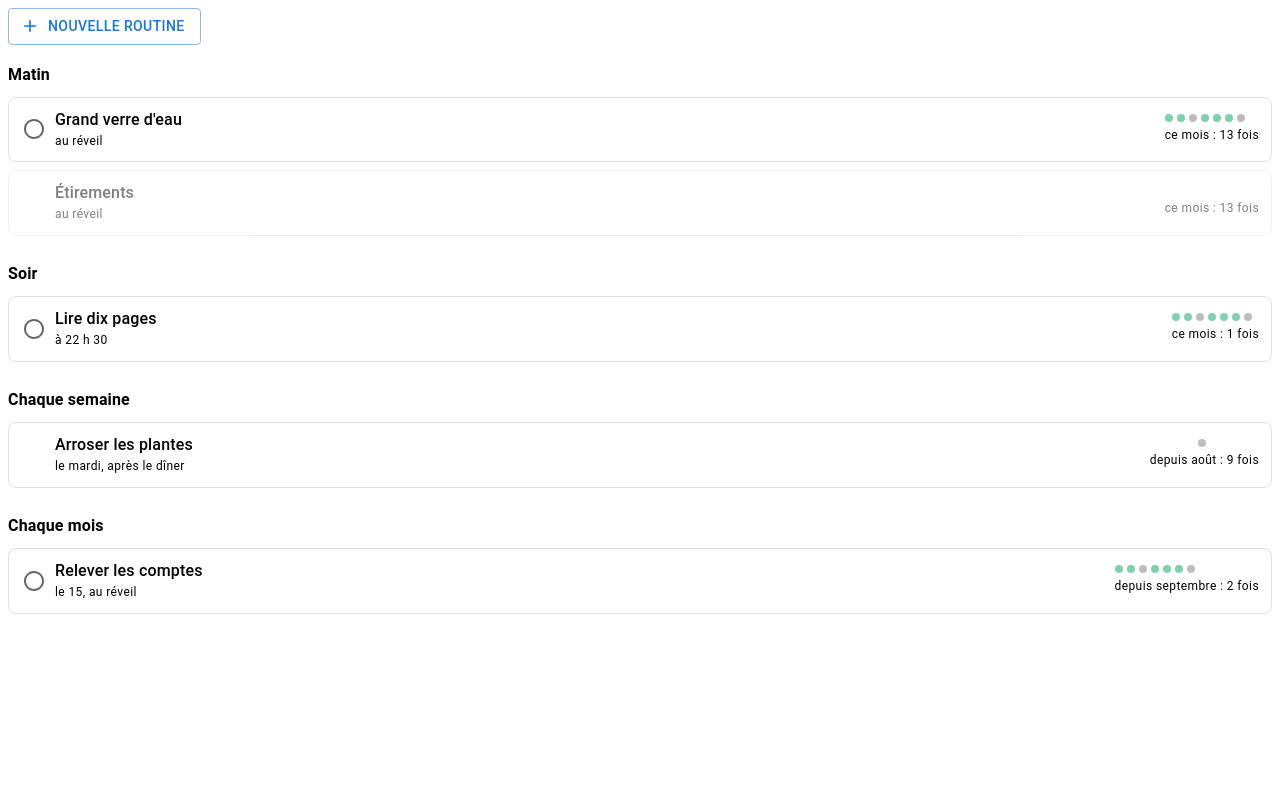
Scenario: TaskRoutines (MAG-511) › « Supprimer » asks first, then deletes
Check: the text "Lire dix pages" is shown, box x1=55 y1=307 x2=157 y2=331
Click the button "Lire dix pages à 22 h 30 ce mois : 1 fois".
click(106, 319)  # box x1=55 y1=297 x2=1271 y2=361
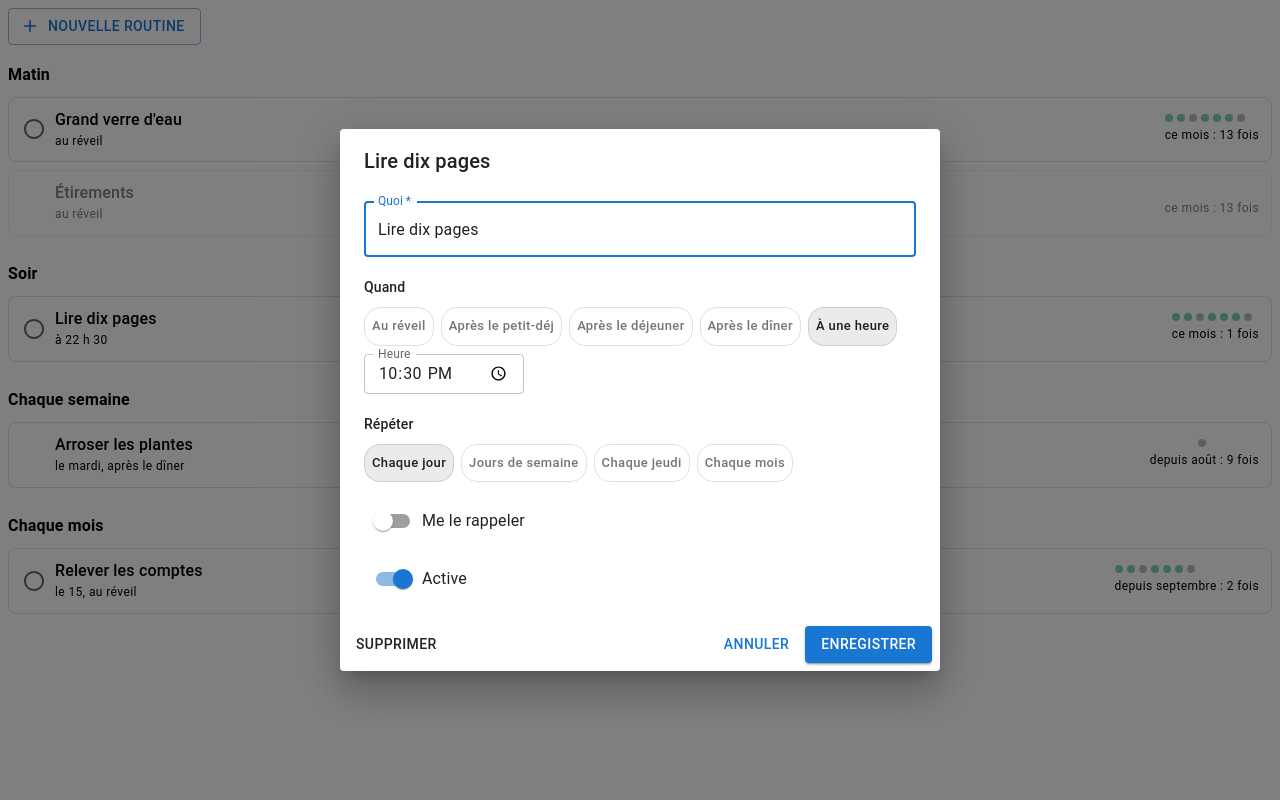
Click the button "Supprimer".
click(396, 645)  # box x1=348 y1=626 x2=445 y2=663
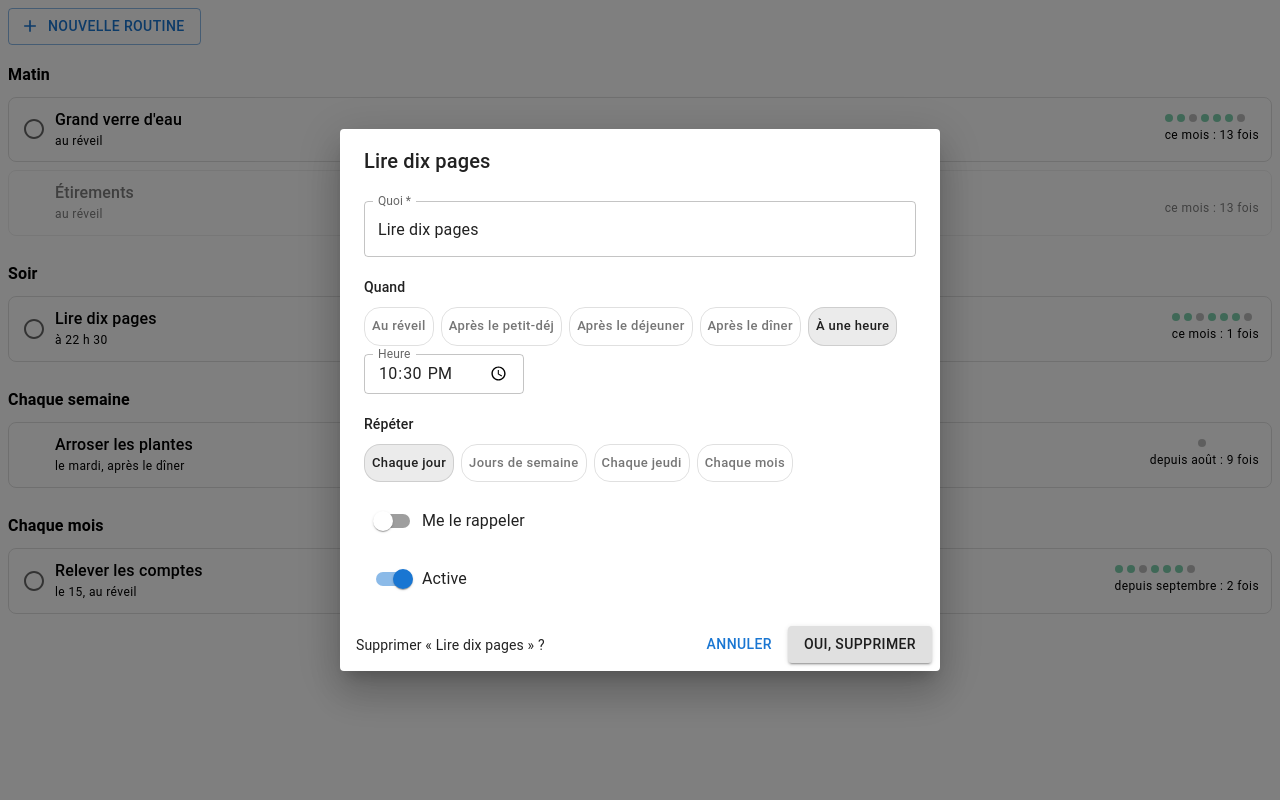
Check: the text "Supprimer « Lire dix pages » ?" is shown, box x1=356 y1=637 x2=545 y2=653
Click the button "Oui, supprimer".
click(860, 645)  # box x1=788 y1=626 x2=932 y2=663
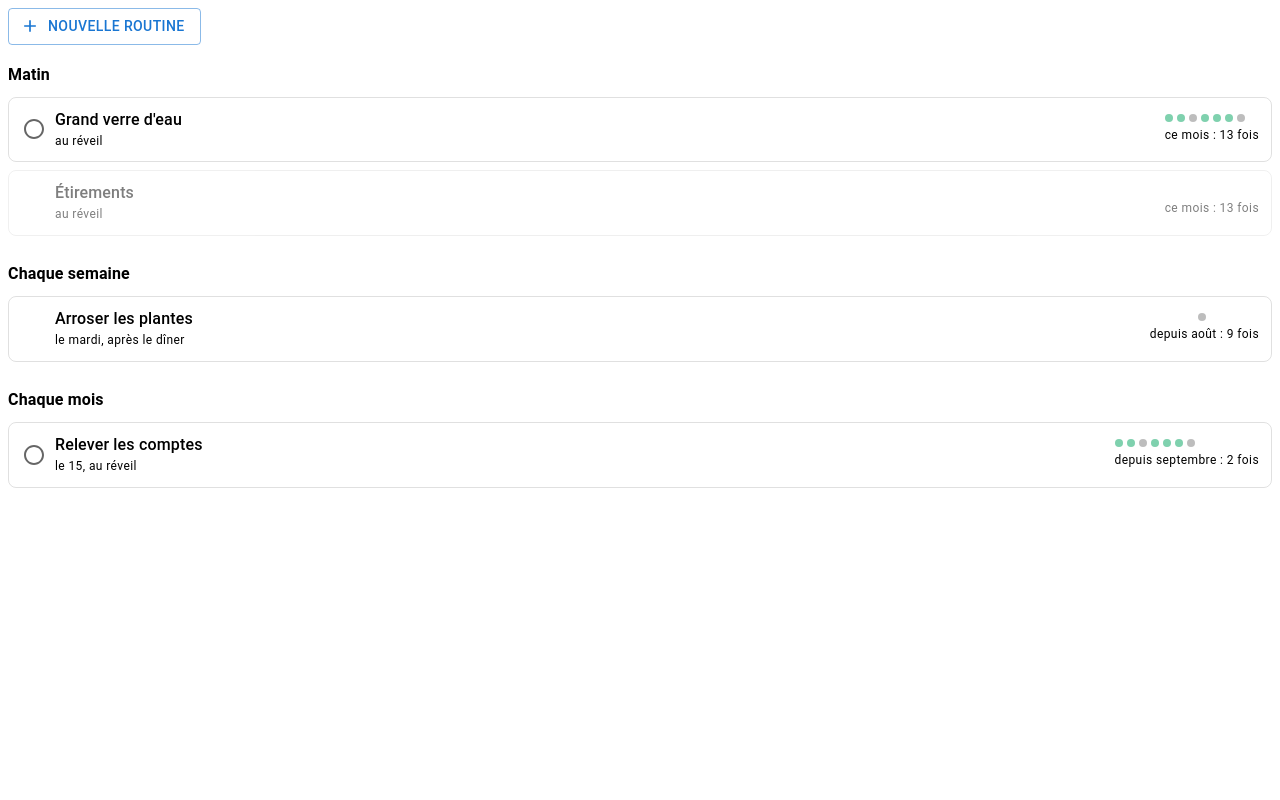
Check: the button "Lire dix pages" is gone
Check: the heading "Soir" is gone
